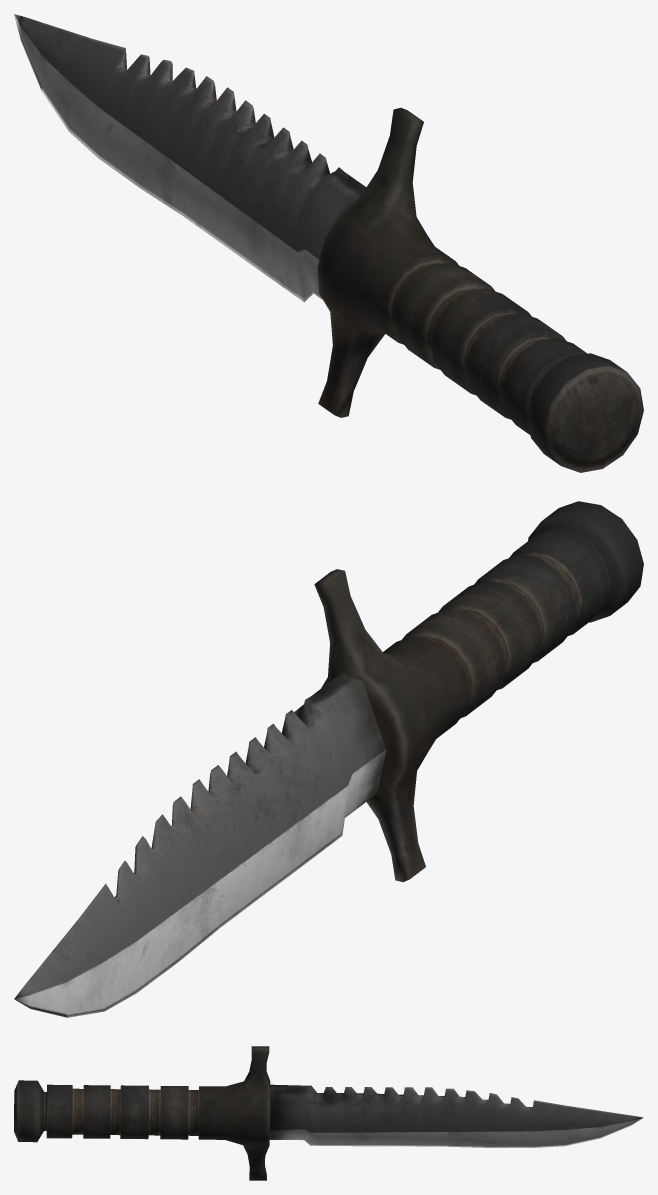
The model's file is arma.glb.
3 renders of one model, top to bottom at view 1: azimuth 30°, elevation 25°; view 2: azimuth 150°, elevation 25°; view 3: azimuth 270°, elevation 25°, orthographic. The views are drawn at different scales.
Parts seen in each view (by area): view 1: cuerpo; view 2: cuerpo; view 3: cuerpo.
Boxes of the visible parts, bbox=[...] form: cuerpo: bbox=[14, 14, 643, 472]; cuerpo: bbox=[14, 501, 643, 1017]; cuerpo: bbox=[14, 1046, 643, 1180].
Size of the model in its own units: 0.0327 by 0.0876 by 0.33.
Materials: 2 (2 with a texture image).
